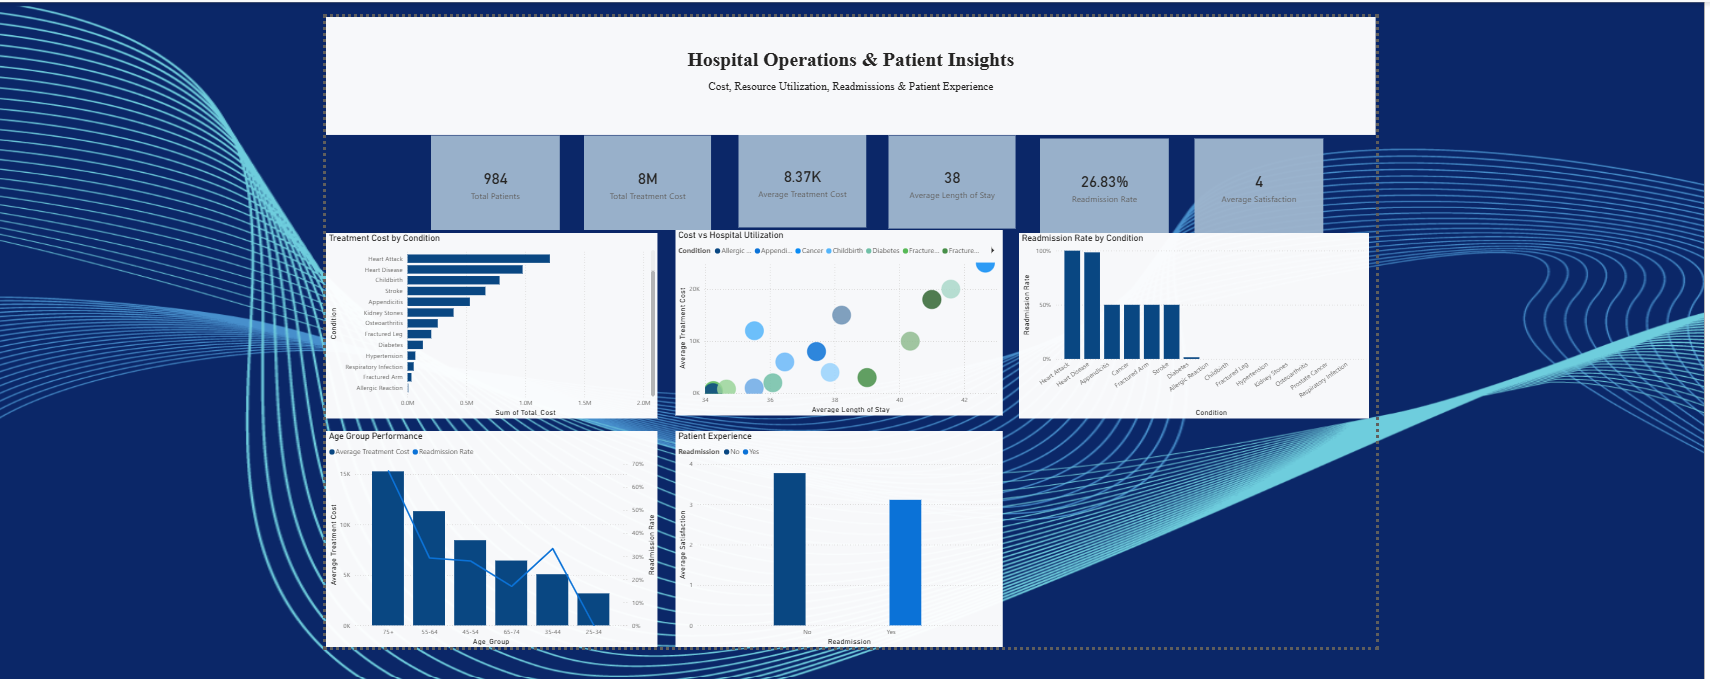

The page's visual inventory and layout, read from the dashboard file:
{"tool":"powerbi","page":{"name":"Page 1","canvas":[2000,1200],"ordinal":0},"visuals":[{"type":"card","fields":{"Values":["healthcare_clean.Total Patients"]},"box":[200.8,224.4,245.1,180.1],"z":0},{"type":"card","fields":{"Values":["healthcare_clean.Total Treatment Cost"]},"box":[490.2,224.4,242.1,180.1],"z":1000},{"type":"card","fields":{"Values":["healthcare_clean.Average Treatment Cost"]},"box":[782.5,224.4,242.1,177.2],"z":2000},{"type":"card","fields":{"Values":["healthcare_clean.Readmission Rate"]},"box":[1361.2,230.3,245.1,180.1],"z":3000},{"type":"card","fields":{"Values":["healthcare_clean.Average Length of Stay"]},"box":[1071.9,224.4,242.1,177.2],"z":4000},{"type":"card","fields":{"Values":["healthcare_clean.Average Satisfaction"]},"box":[1653.6,230.3,245.1,180.1],"z":5000},{"type":"clusteredBarChart","title":"Treatment Cost by Condition","fields":{"Y":["Sum(healthcare_clean.Total_Cost)"],"Category":["healthcare_clean.Condition"]},"box":[0,440,631.9,324.8],"z":5001},{"type":"scatterChart","title":"Cost vs Hospital Utilization","fields":{"X":["healthcare_clean.Average Length of Stay"],"Category":["healthcare_clean.Condition"],"Y":["healthcare_clean.Average Treatment Cost"],"Series":["healthcare_clean.Condition"],"Size":["healthcare_clean.Total Patients"]},"box":[667.3,440,646.7,324.8],"z":5002},{"type":"clusteredColumnChart","fields":{"Y":["healthcare_clean.Readmission Rate"],"Category":["healthcare_clean.Condition"]},"box":[1319.9,440,667.3,392.7],"z":5003},{"type":"lineClusteredColumnComboChart","title":"Age Group Performance","fields":{"Category":["healthcare_clean.Age_Group"],"Y":["healthcare_clean.Average Treatment Cost"],"Y2":["healthcare_clean.Readmission Rate"]},"box":[0,788.4,631.9,360.2],"z":5004},{"type":"clusteredColumnChart","title":"Patient Experience","fields":{"Y":["healthcare_clean.Average Satisfaction"],"Category":["healthcare_clean.Readmission"],"Series":["healthcare_clean.Readmission"]},"box":[667.3,788.4,646.7,386.8],"z":5005},{"type":"textbox","box":[0,0,1999,224.4],"z":5006}]}

Visuals, with their boxes on the page's 2000x1200 design canvas (x1, y1, x2, y2). These are canvas units, not pixel positions in the 1710x679 screenshot, which may show the page scaled, cropped or inside an application window:
card - healthcare_clean.Total Patients: x1=201, y1=224, x2=446, y2=404
card - healthcare_clean.Total Treatment Cost: x1=490, y1=224, x2=732, y2=404
card - healthcare_clean.Average Treatment Cost: x1=782, y1=224, x2=1025, y2=402
card - healthcare_clean.Readmission Rate: x1=1361, y1=230, x2=1606, y2=410
card - healthcare_clean.Average Length of Stay: x1=1072, y1=224, x2=1314, y2=402
card - healthcare_clean.Average Satisfaction: x1=1654, y1=230, x2=1899, y2=410
"Treatment Cost by Condition" clusteredBarChart: x1=0, y1=440, x2=632, y2=765
"Cost vs Hospital Utilization" scatterChart: x1=667, y1=440, x2=1314, y2=765
clusteredColumnChart - healthcare_clean.Readmission Rate x healthcare_clean.Condition: x1=1320, y1=440, x2=1987, y2=833
"Age Group Performance" lineClusteredColumnComboChart: x1=0, y1=788, x2=632, y2=1149
"Patient Experience" clusteredColumnChart: x1=667, y1=788, x2=1314, y2=1175
textbox: x1=0, y1=0, x2=1999, y2=224
